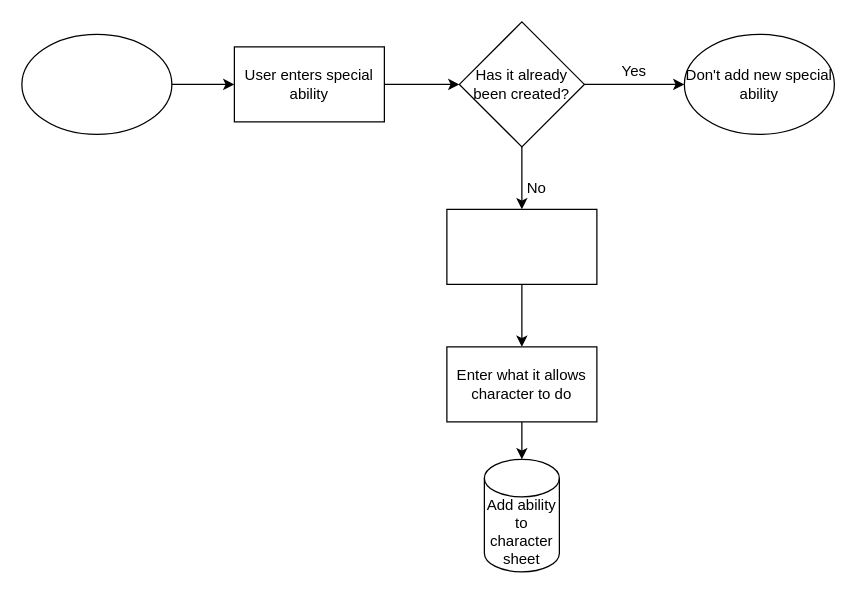
This 856x594 diagram has some shape labels left out. Each missing label, with the centre of its shape:
"Enter stats affected" goes at pixel 521 246.
"Start (user wants to add new special ability)" goes at pixel 96 83.
